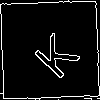K: (25, 25, 82, 81)
